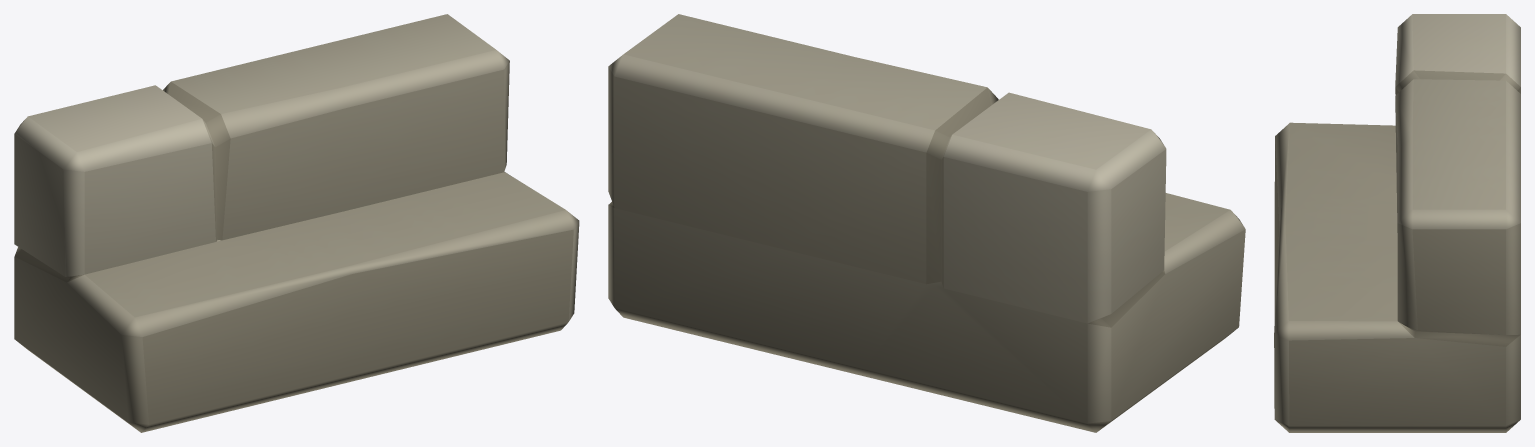
File: orc_stairs_half_2_shade_2.fbx
The picture shows the model from 3 angles, left to right: view 1: azimuth 30°, elevation 25°; view 2: azimuth 150°, elevation 25°; view 3: azimuth 270°, elevation 25°; orthographic projection. The views are drawn at different scales.
Parts seen in each view (by area): view 1: orc_stairs_half_2_shade_2; view 2: orc_stairs_half_2_shade_2; view 3: orc_stairs_half_2_shade_2.
Boxes of the visible parts, bbox=[...] form: orc_stairs_half_2_shade_2: bbox=[14, 14, 579, 432]; orc_stairs_half_2_shade_2: bbox=[608, 14, 1245, 432]; orc_stairs_half_2_shade_2: bbox=[1274, 14, 1520, 432].
Bounding box in the file's own units: 102 × 50.51 × 50.1.
